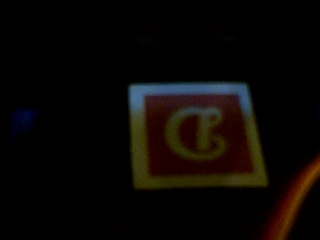D: (144, 92, 256, 177)
